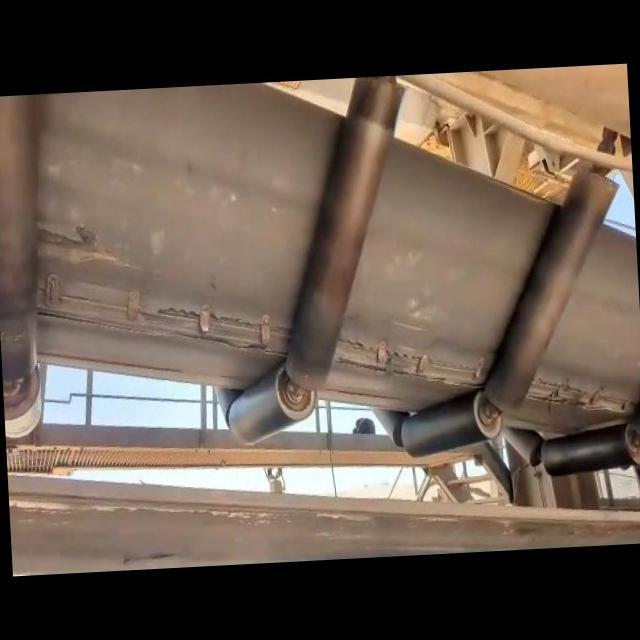Tear: (31, 270, 292, 359), (333, 326, 488, 396), (524, 372, 636, 418)
Wear: (30, 201, 146, 275)
